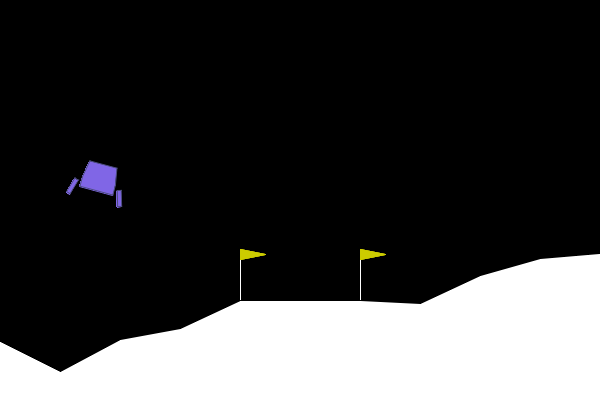lander: (64, 155, 132, 209)
